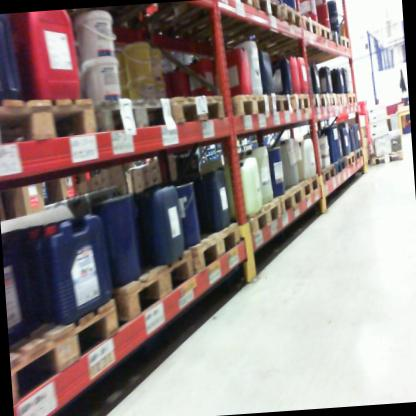pallet: (7, 291, 126, 405), (0, 87, 103, 164), (106, 252, 198, 332), (145, 0, 257, 56), (182, 209, 250, 286), (96, 82, 177, 146), (230, 1, 307, 58), (168, 87, 225, 131), (273, 31, 354, 59), (242, 195, 284, 240), (224, 87, 272, 123), (279, 180, 307, 224), (265, 88, 295, 122), (368, 146, 407, 171), (253, 0, 286, 27), (297, 176, 325, 206), (303, 12, 323, 49), (290, 89, 313, 118), (320, 162, 341, 191), (318, 17, 335, 49), (333, 155, 349, 181), (309, 88, 326, 110), (321, 89, 338, 110), (344, 147, 358, 171), (344, 91, 359, 113), (362, 153, 378, 172), (355, 143, 368, 166), (331, 26, 343, 47), (332, 91, 348, 106)
